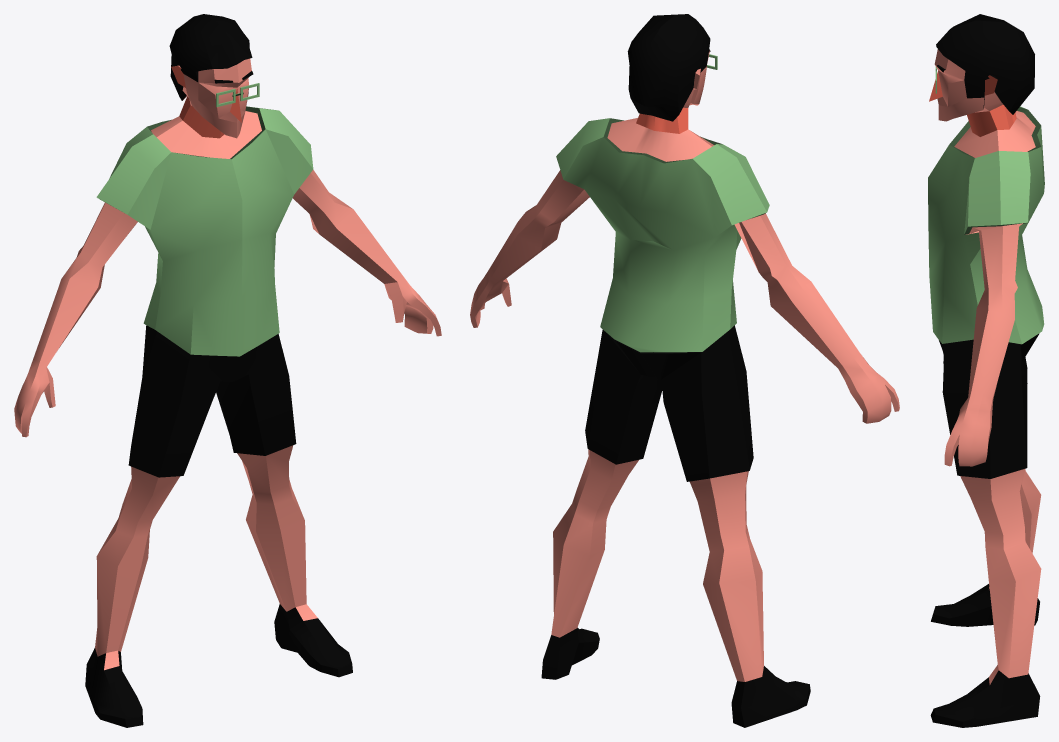
The model's file is John.obj.
3 renders of one model, left to right at view 1: azimuth 30°, elevation 25°; view 2: azimuth 150°, elevation 25°; view 3: azimuth 270°, elevation 25°, orthographic. The views are drawn at different scales.
Parts seen in each view (by area): view 1: John; view 2: John; view 3: John.
Part boxes in pixels (left/top/right/bottom): John: left=14, top=14, right=441, bottom=727; John: left=470, top=14, right=899, bottom=727; John: left=928, top=14, right=1044, bottom=727.
Size of the model in its own units: 281 by 424 by 69.27.
